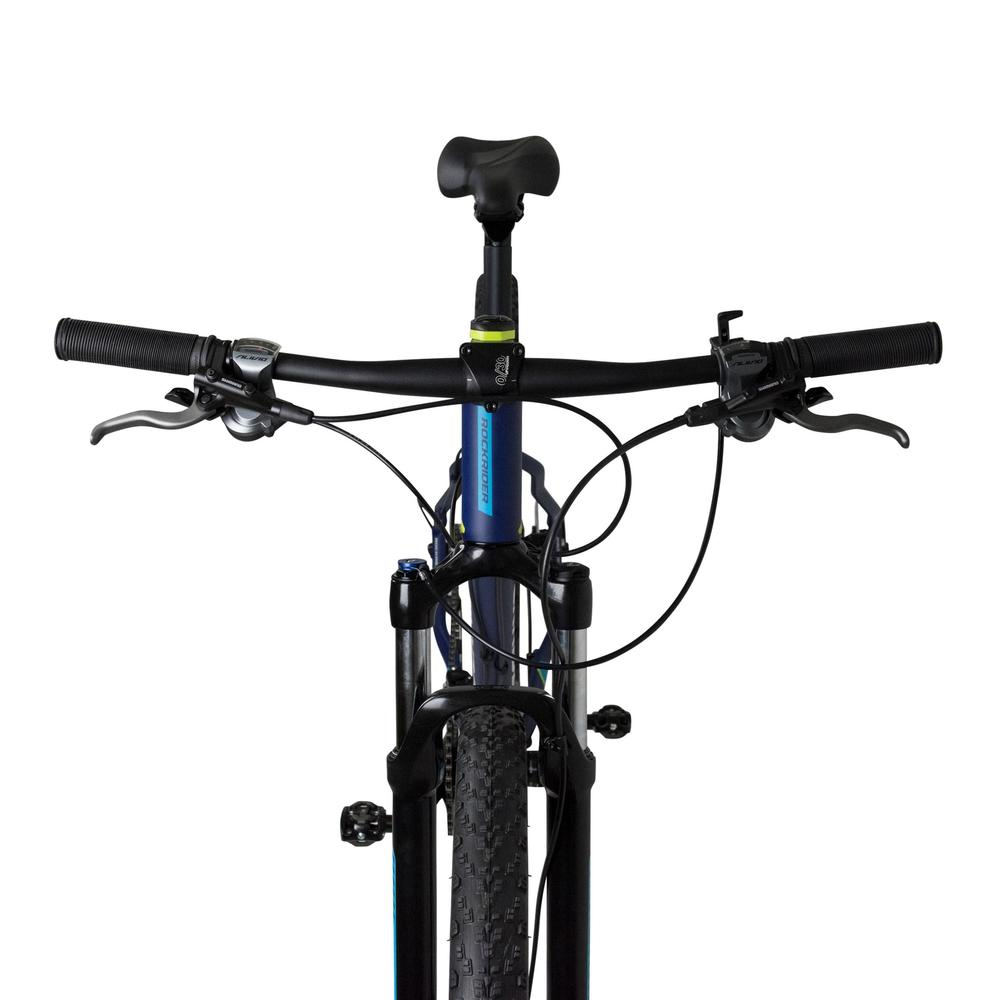MountainBike: (47, 86, 948, 1000)
